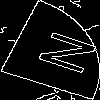N: (25, 25, 99, 77)
